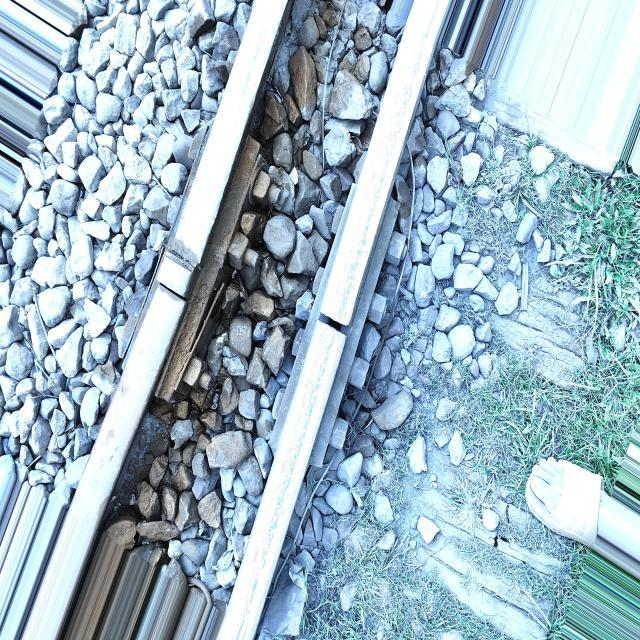Good Joint: (269, 182, 406, 468)
